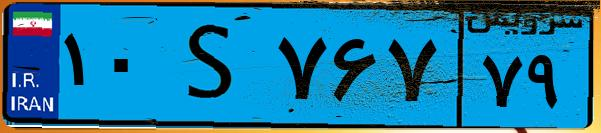0: (110, 28, 158, 98)
1: (57, 26, 110, 100)
6: (330, 28, 385, 110)
7: (270, 28, 330, 110), (385, 28, 445, 110), (475, 38, 525, 113)
9: (525, 38, 570, 115)
S: (158, 12, 270, 120)
